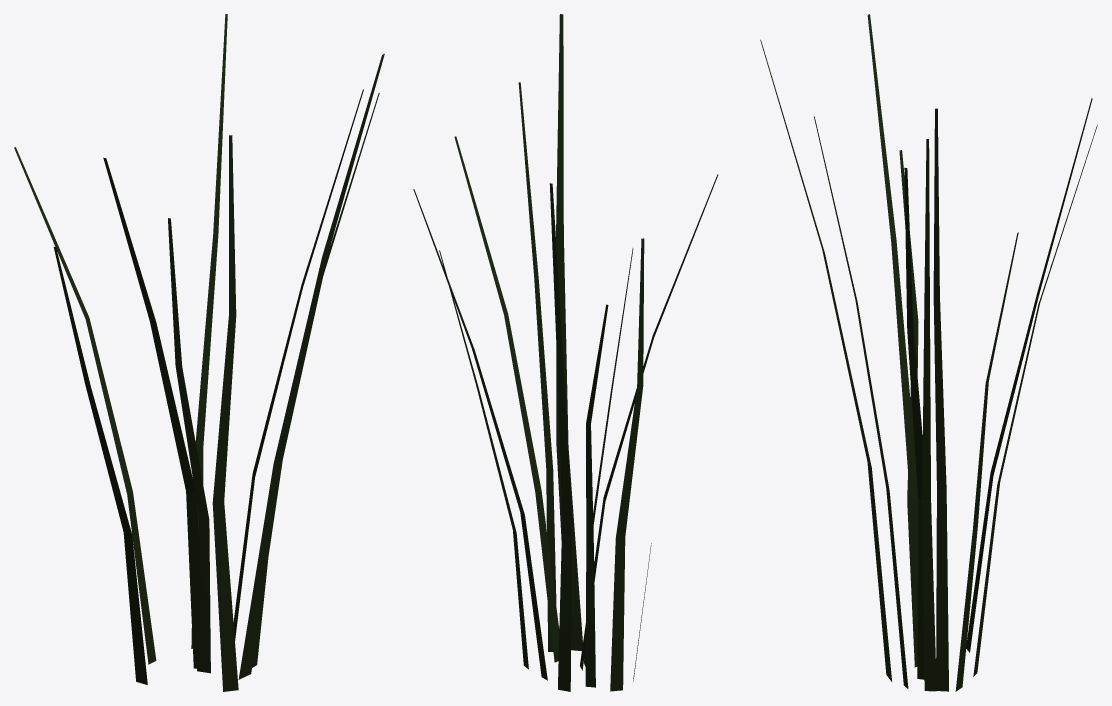
The model's file is shi-daze-wet-field-vegetation-v1-stalk-lod0.glb.
3 views of the same model, side by side, from view 1: azimuth 30°, elevation 25°; view 2: azimuth 150°, elevation 25°; view 3: azimuth 270°, elevation 25° (orthographic). The views are drawn at different scales.
Parts seen in each view (by area): view 1: SM_SHI_FieldStalkClump_01_LOD0; view 2: SM_SHI_FieldStalkClump_01_LOD0; view 3: SM_SHI_FieldStalkClump_01_LOD0.
Boxes of the visible parts, bbox=[...] form: SM_SHI_FieldStalkClump_01_LOD0: bbox=[14, 14, 384, 691]; SM_SHI_FieldStalkClump_01_LOD0: bbox=[413, 14, 718, 691]; SM_SHI_FieldStalkClump_01_LOD0: bbox=[760, 14, 1097, 691].
Bounding box in the file's own units: 0.68 × 1.35 × 0.61.
